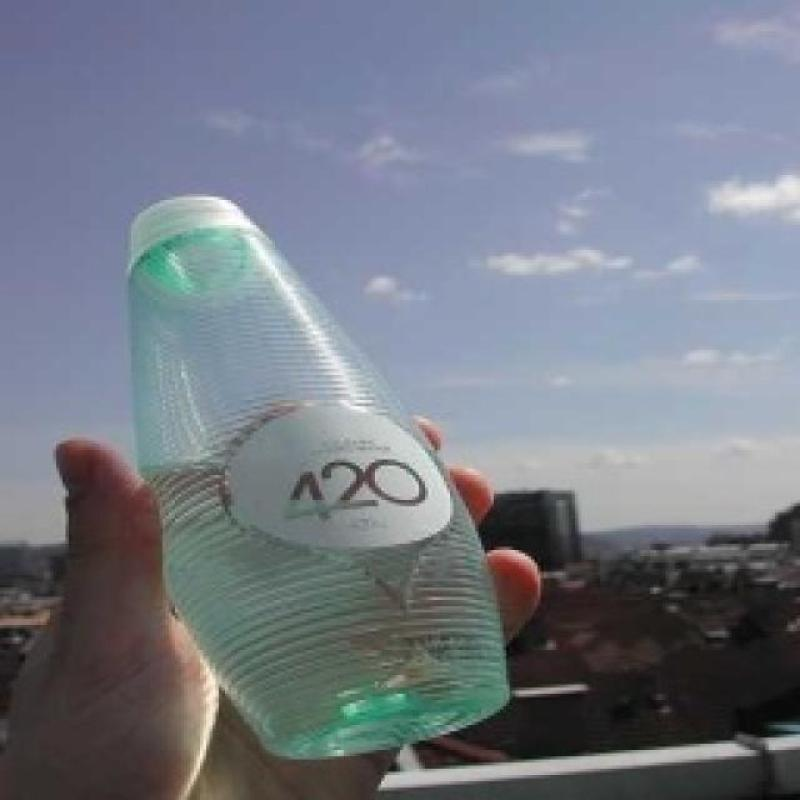botella: (122, 195, 516, 757)
